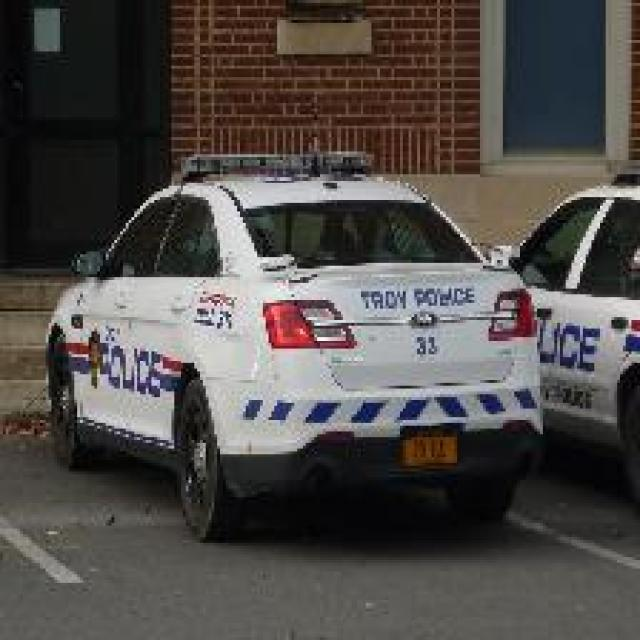Police-car: (43, 146, 546, 540), (500, 166, 637, 528)
